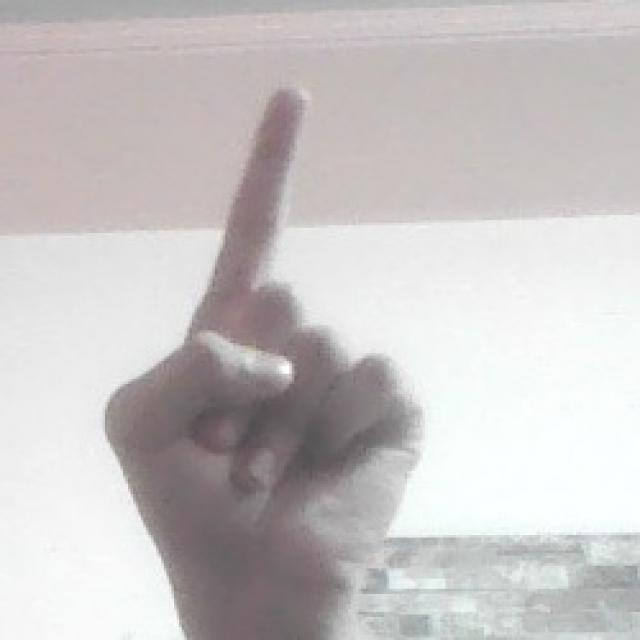Numeric-1: (108, 77, 418, 612)
